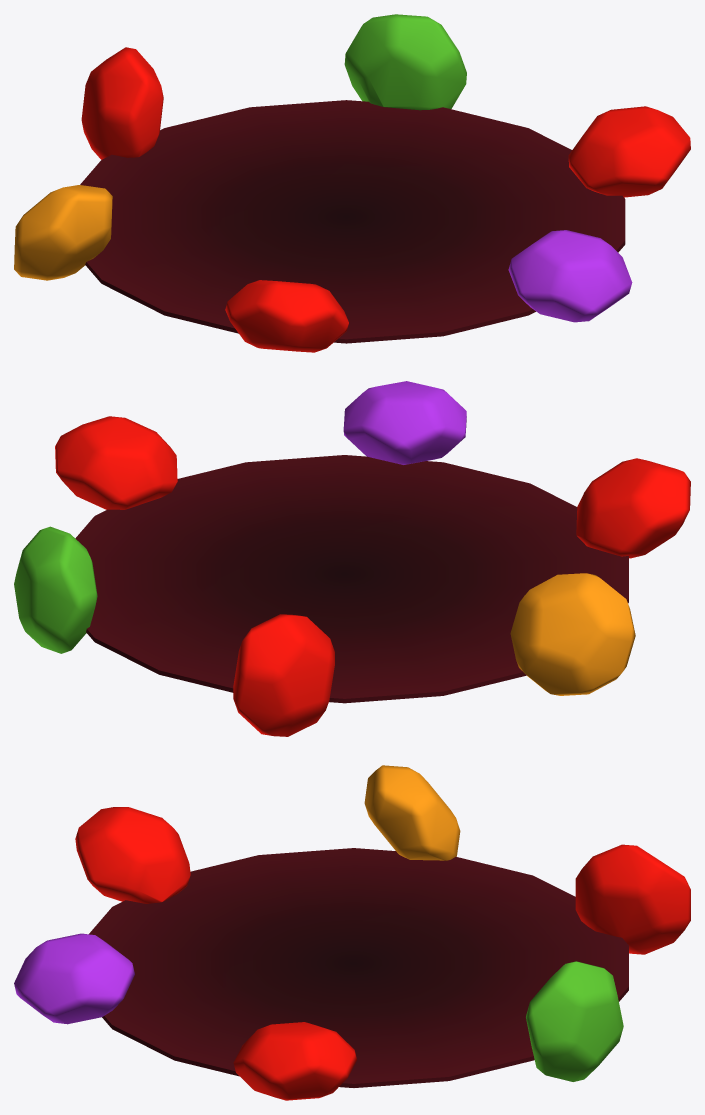
The model's file is Gummy_Cave_Mouth.glb.
3 renders of one model, top to bottom at view 1: azimuth 30°, elevation 25°; view 2: azimuth 150°, elevation 25°; view 3: azimuth 270°, elevation 25°, orthographic. The views are drawn at different scales.
Parts seen in each view (by area): view 1: Gummy_Cave_Mouth; view 2: Gummy_Cave_Mouth; view 3: Gummy_Cave_Mouth.
Part boxes in pixels (left/top/right/bottom): Gummy_Cave_Mouth: left=14, top=14, right=690, bottom=352; Gummy_Cave_Mouth: left=14, top=381, right=690, bottom=736; Gummy_Cave_Mouth: left=14, top=765, right=690, bottom=1100.
Size of the model in its own units: 4.5 by 0.7872 by 4.37.
